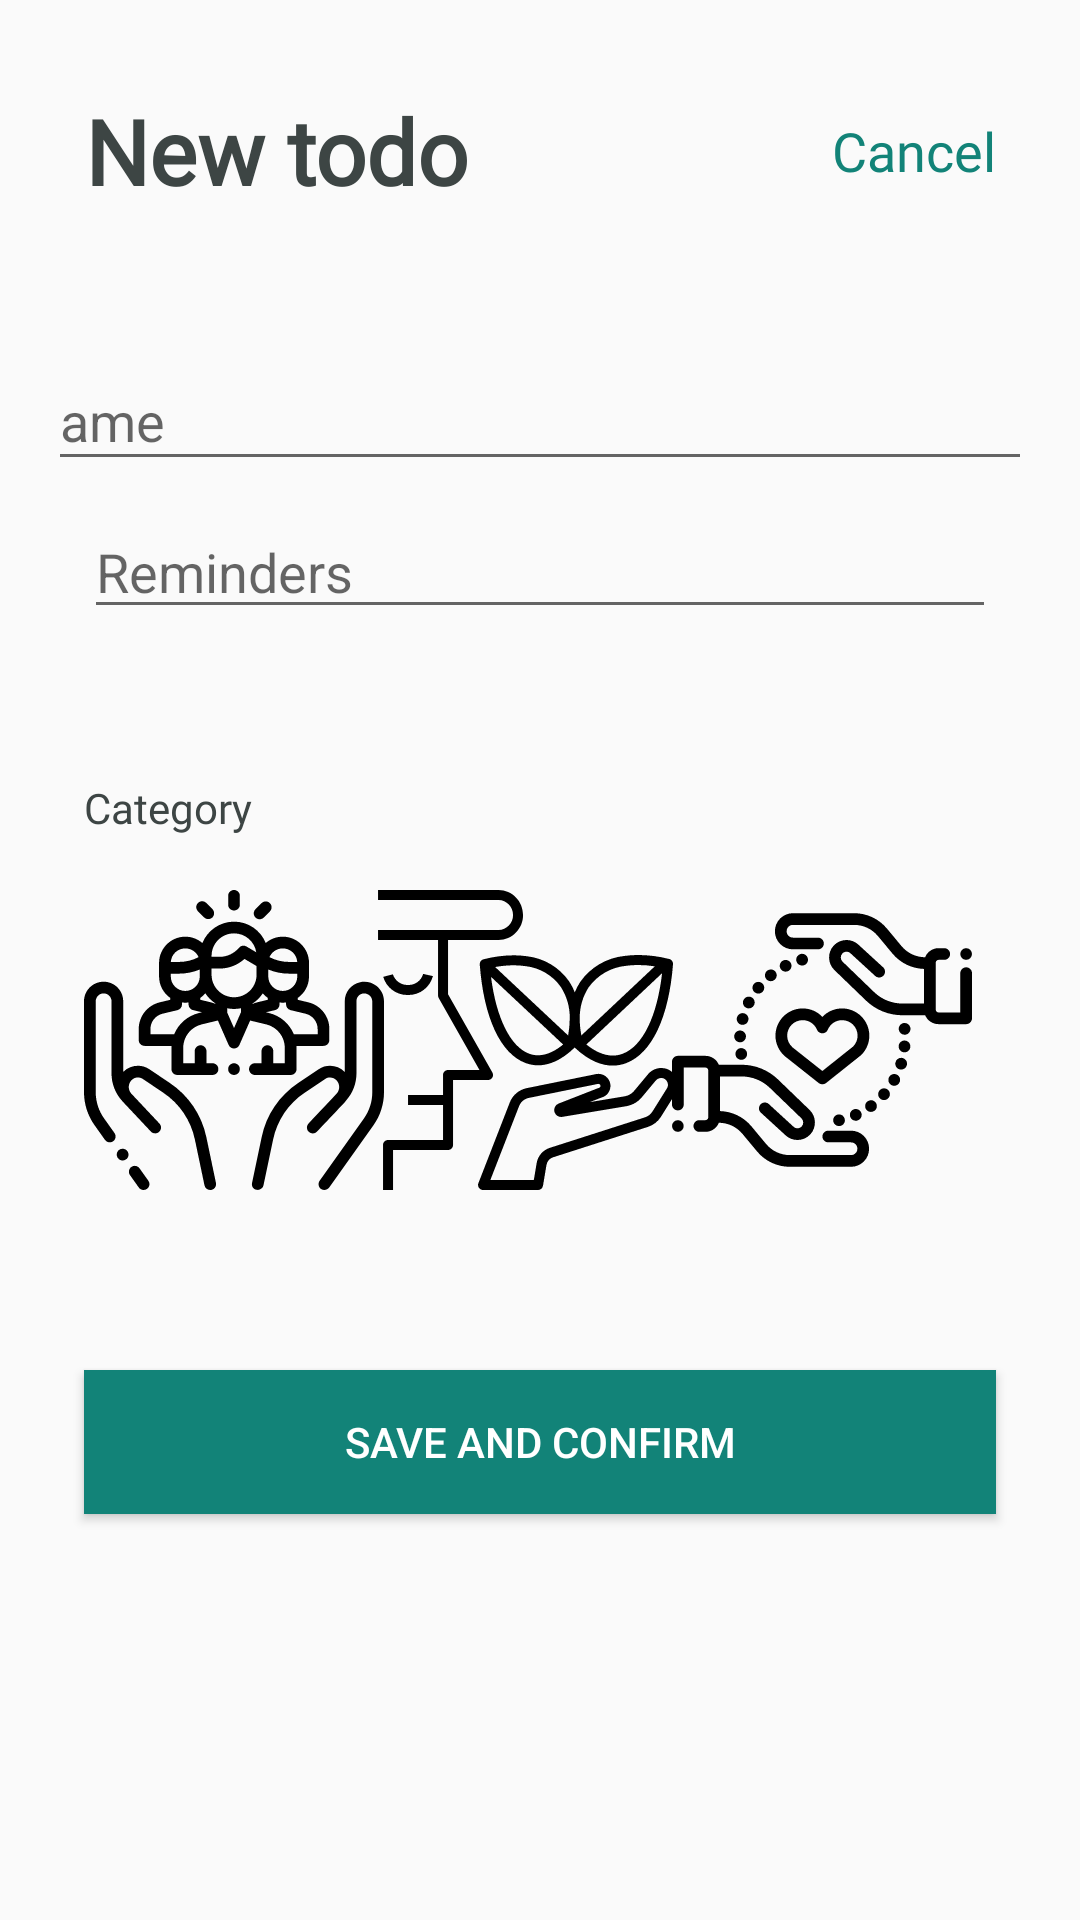

Locate icon controls on the screen. Image size 1080×1920, boxes as (x1, y1, x2, y2).
care: (672, 913, 972, 1132)
social: (84, 890, 384, 1190)
wellbeing: (378, 890, 673, 1190)
